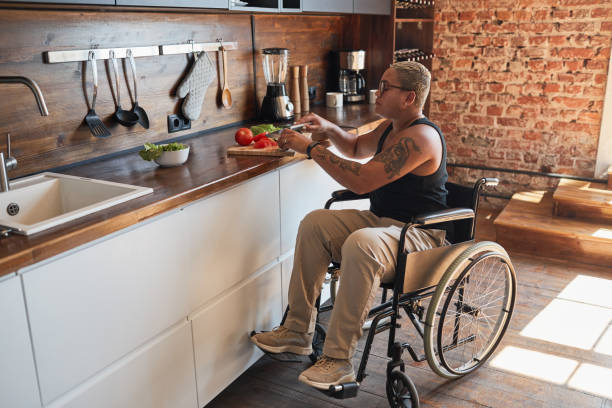wheel_chair: (248, 162, 524, 408)
